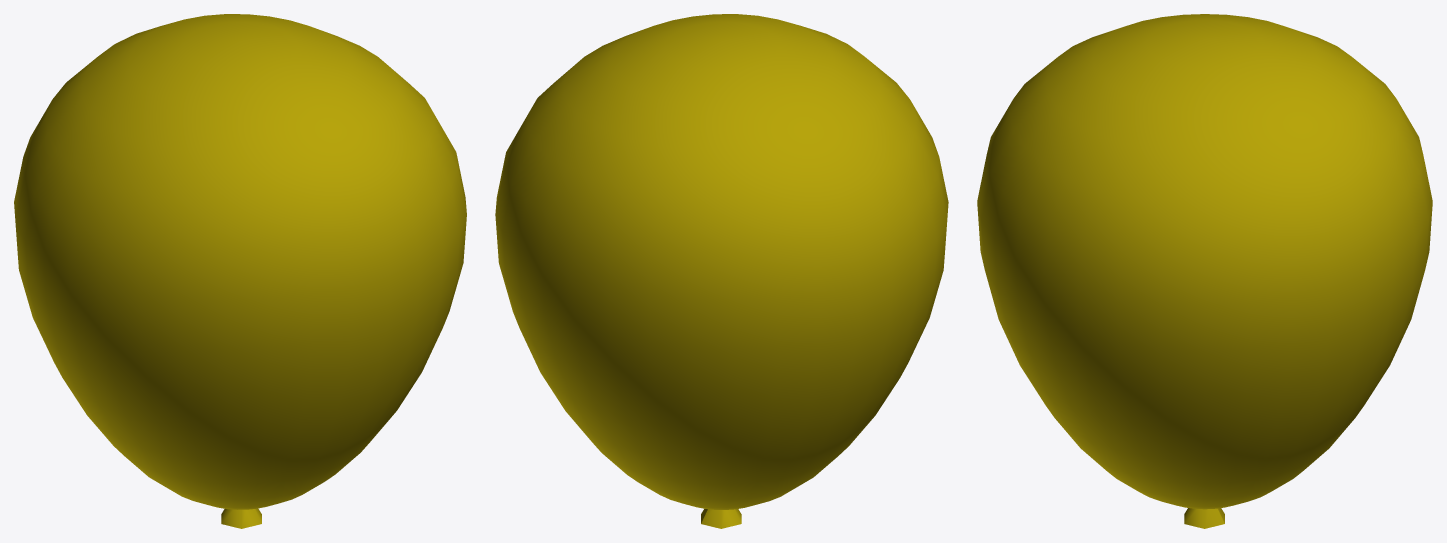
The model's file is balloonyellow.FBX.
3 renders of one model, left to right at view 1: azimuth 30°, elevation 25°; view 2: azimuth 150°, elevation 25°; view 3: azimuth 270°, elevation 25°, orthographic.
Visible parts, largest first — view 1: Sphere001; view 2: Sphere001; view 3: Sphere001.
Boxes of the visible parts, left/top/right/bottom form: Sphere001: left=14, top=14, right=466, bottom=528; Sphere001: left=495, top=14, right=948, bottom=528; Sphere001: left=977, top=14, right=1432, bottom=528.
Bounding box in the file's own units: 9.53 × 11.06 × 9.53.
